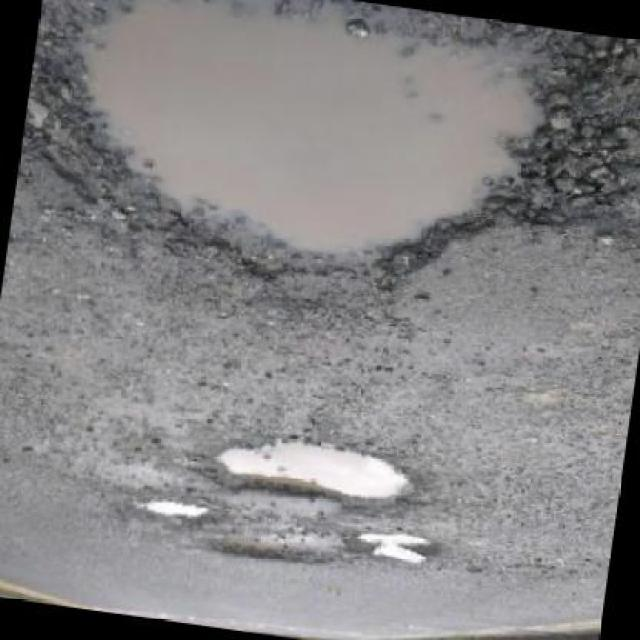pothole: (12, 1, 637, 338), (193, 429, 425, 522), (194, 530, 341, 575), (349, 528, 436, 574), (123, 494, 214, 532)
